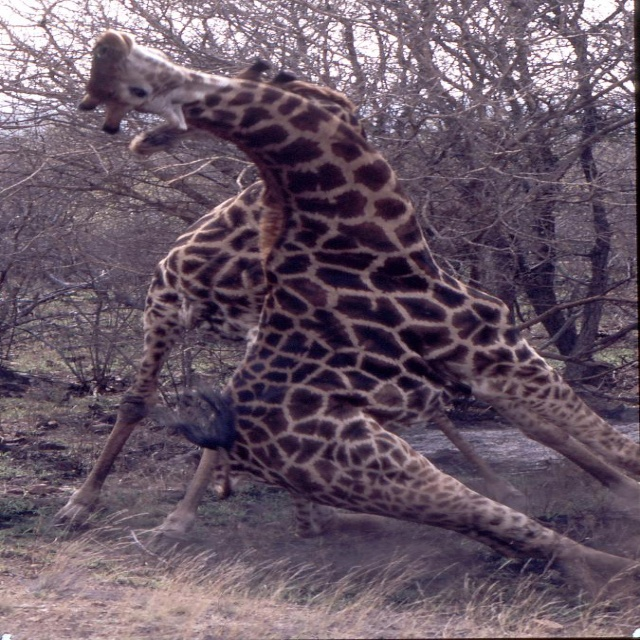Giraffe: (83, 21, 639, 616)
